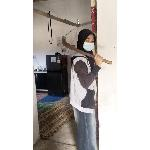Golok: (58, 35, 110, 67)
